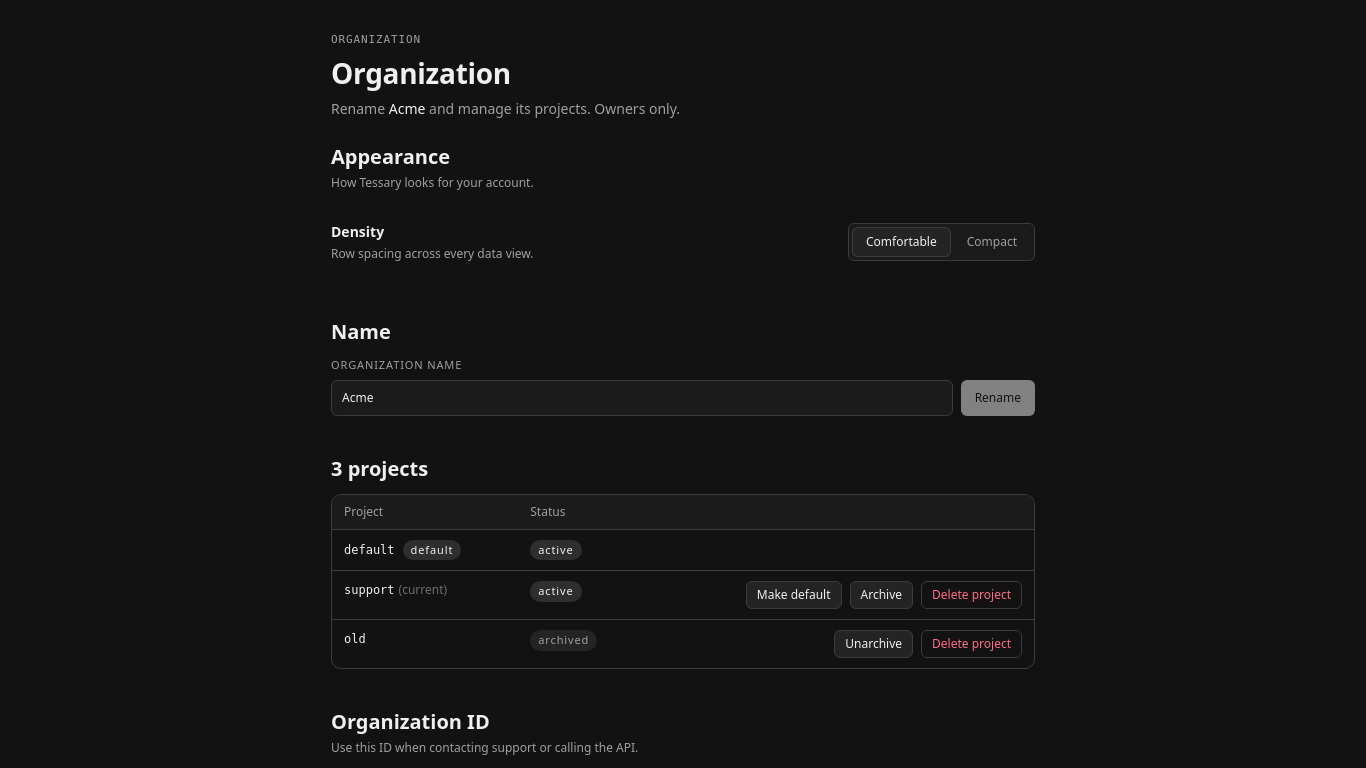
renaming › says why a rename was refused
Replace the text in the field labelled "Organization name" with "Globex" at {"x": 642, "y": 398}, box [331, 380, 953, 416]
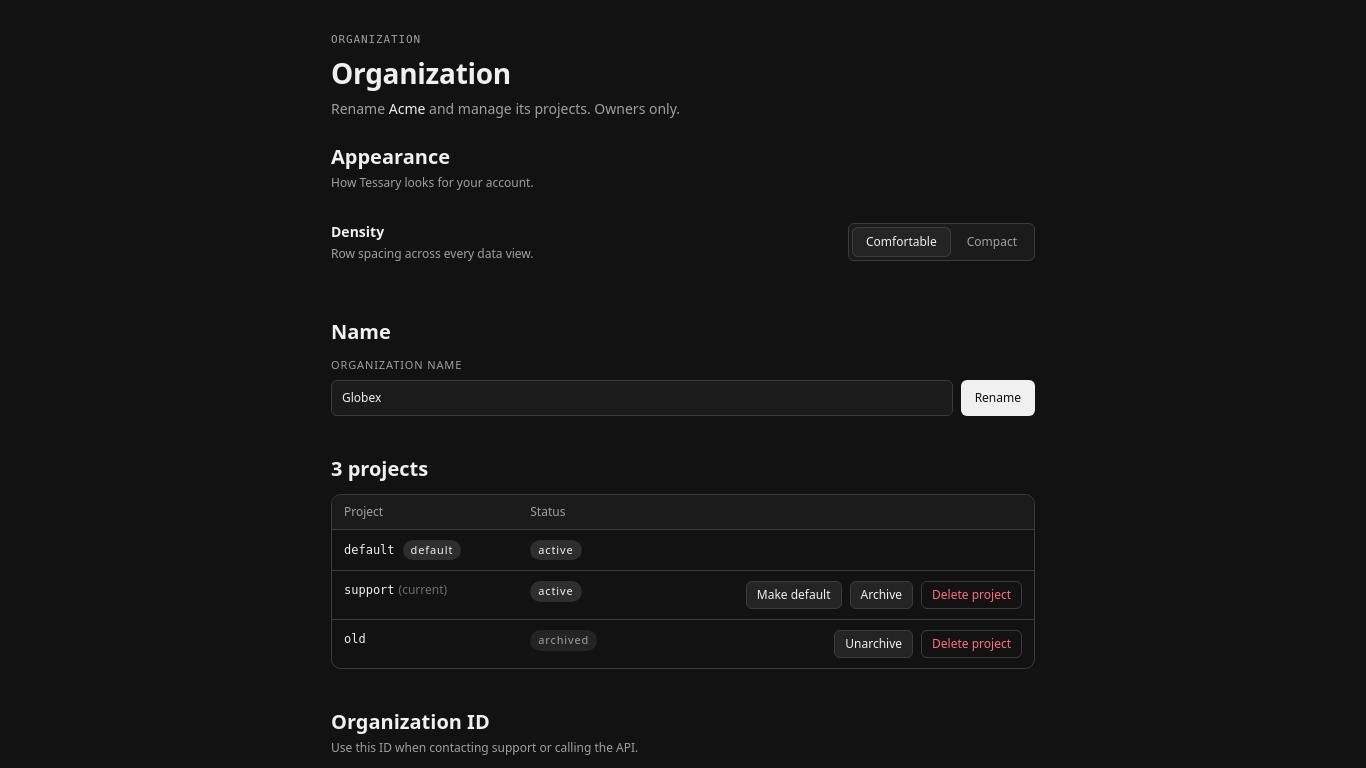
Click the button "Rename".
click(998, 398)  # box [961, 380, 1035, 416]
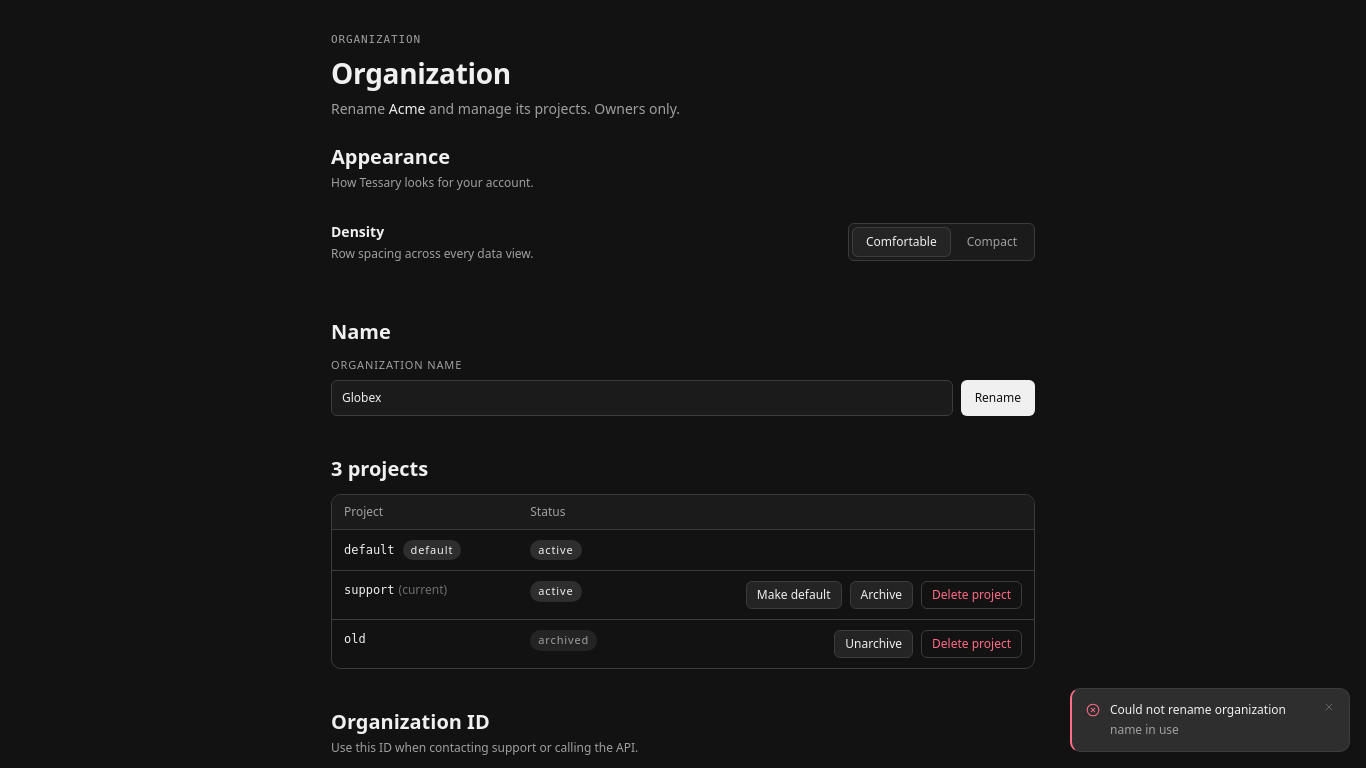
Check: the text "Could not rename organization" is shown, box [1110, 701, 1313, 719]
Check: the text "name in use" is shown, box [1110, 721, 1179, 738]
